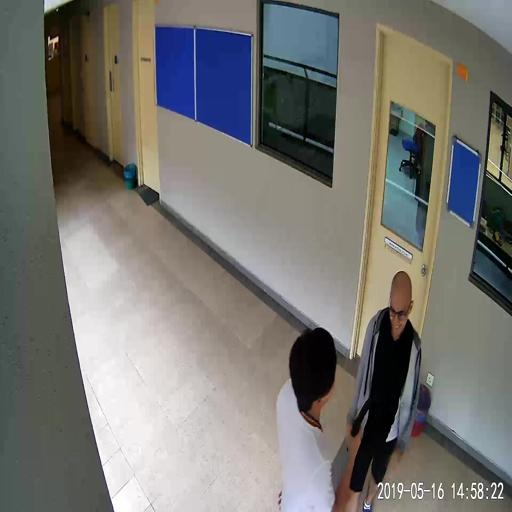pistol: (349, 394, 372, 438)
